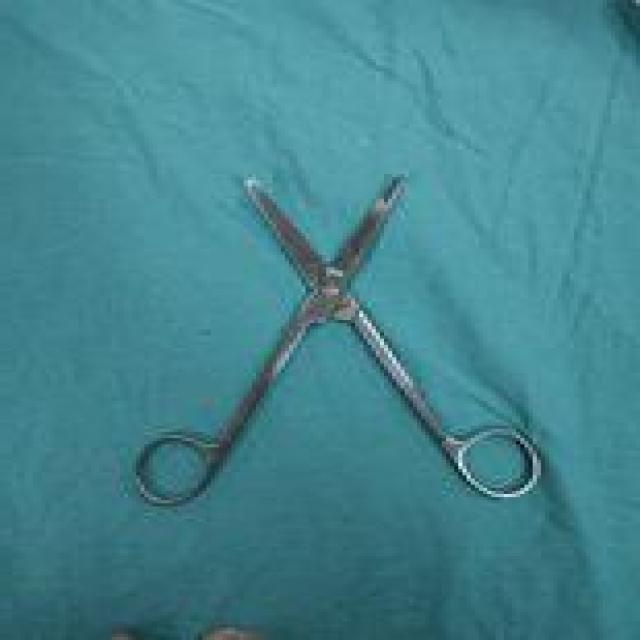Mayo_metz: (128, 168, 549, 512)
